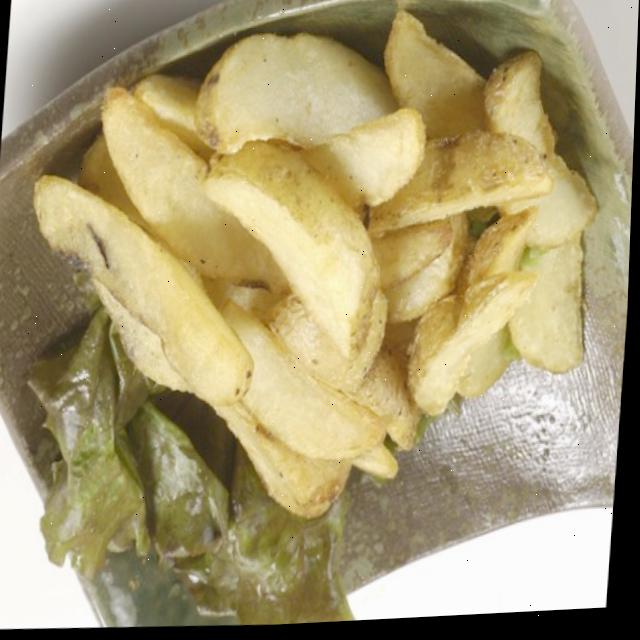炸货点心: (4, 0, 616, 556)
